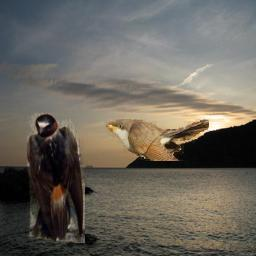Cuckoo: (104, 119, 209, 161)
Swallow: (27, 113, 85, 243)
